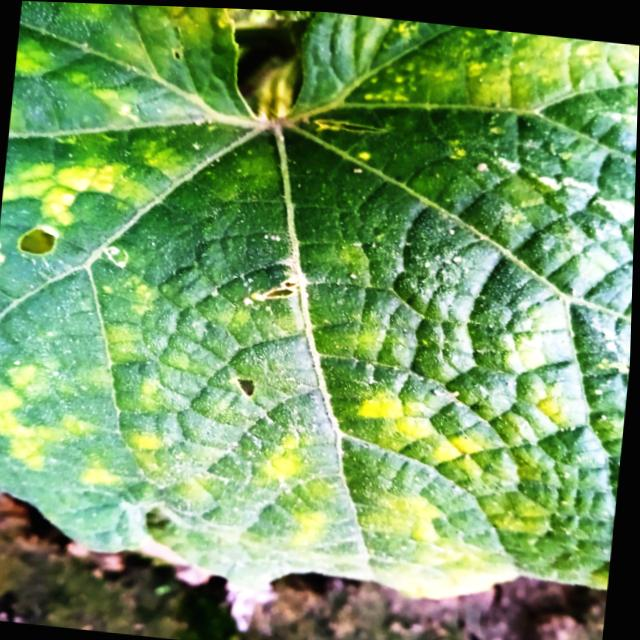Downy-Mildew: (0, 1, 639, 597)
